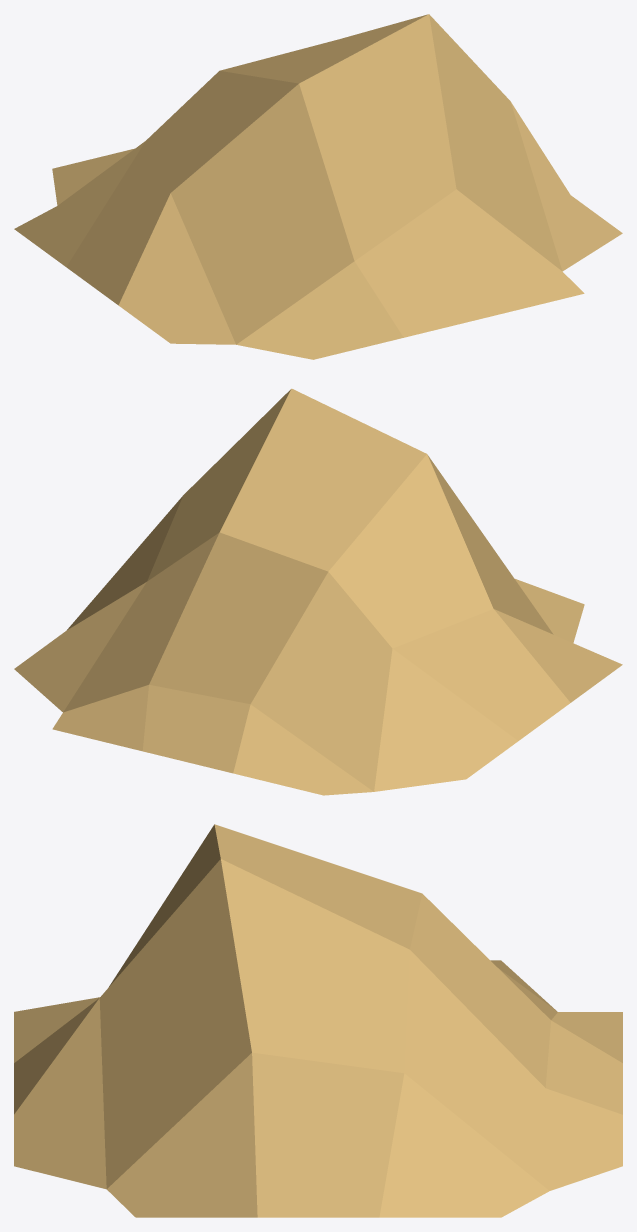
The model's file is SandMount_4.fbx.
3 views of the same model, one above another, from view 1: azimuth 30°, elevation 25°; view 2: azimuth 150°, elevation 25°; view 3: azimuth 270°, elevation 25° (orthographic). The views are drawn at different scales.
Parts seen in each view (by area): view 1: Plane; view 2: Plane; view 3: Plane.
Boxes of the visible parts, <box> form: Plane: <box>14,14,622,359</box>; Plane: <box>14,388,622,795</box>; Plane: <box>14,824,622,1217</box>.
Size of the model in its own units: 200 by 102 by 200.
